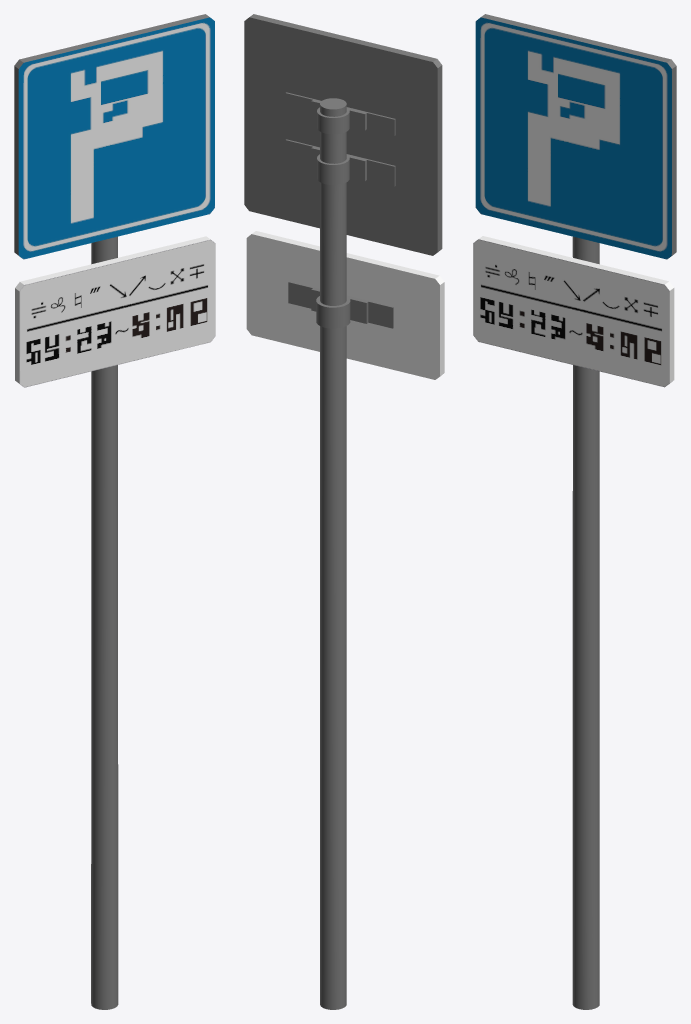
The model's file is road_sign3.fbx.
3 views of the same model, side by side, from view 1: azimuth 30°, elevation 25°; view 2: azimuth 150°, elevation 25°; view 3: azimuth 330°, elevation 25° (orthographic).
Visible parts, largest first — view 1: hojo1, hojohyousiki2, hasira2; view 2: hojo1, hasira2, hojohyousiki2; view 3: hojo1, hojohyousiki2, hasira2.
Boxes of the visible parts, x1,y1,x2,y2 form: hojo1: (14,14,214,259); hojohyousiki2: (15,236,215,387); hasira2: (91,236,118,1009); hojo1: (244,14,442,255); hasira2: (285,92,395,1009); hojohyousiki2: (246,231,444,379); hojo1: (475,14,676,259); hojohyousiki2: (473,236,674,387); hasira2: (572,236,599,1009).
Size of the model in its own units: 100 by 474 by 19.99.
4 materials, 2 textured.
